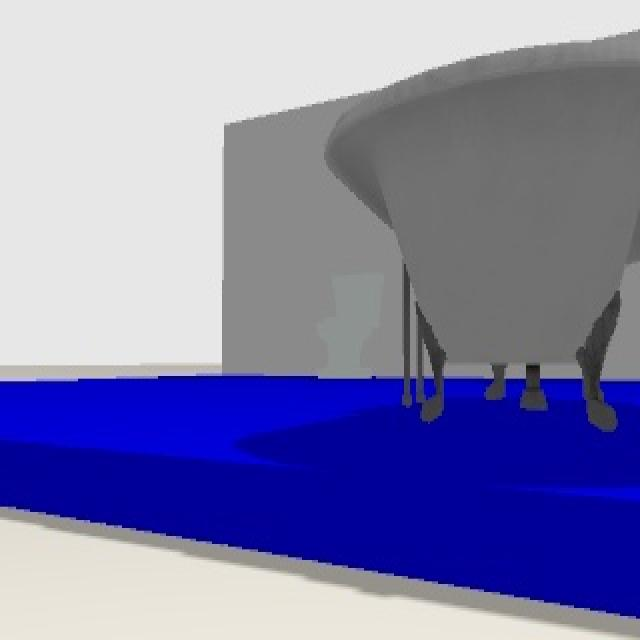bathtub: (322, 32, 638, 432)
